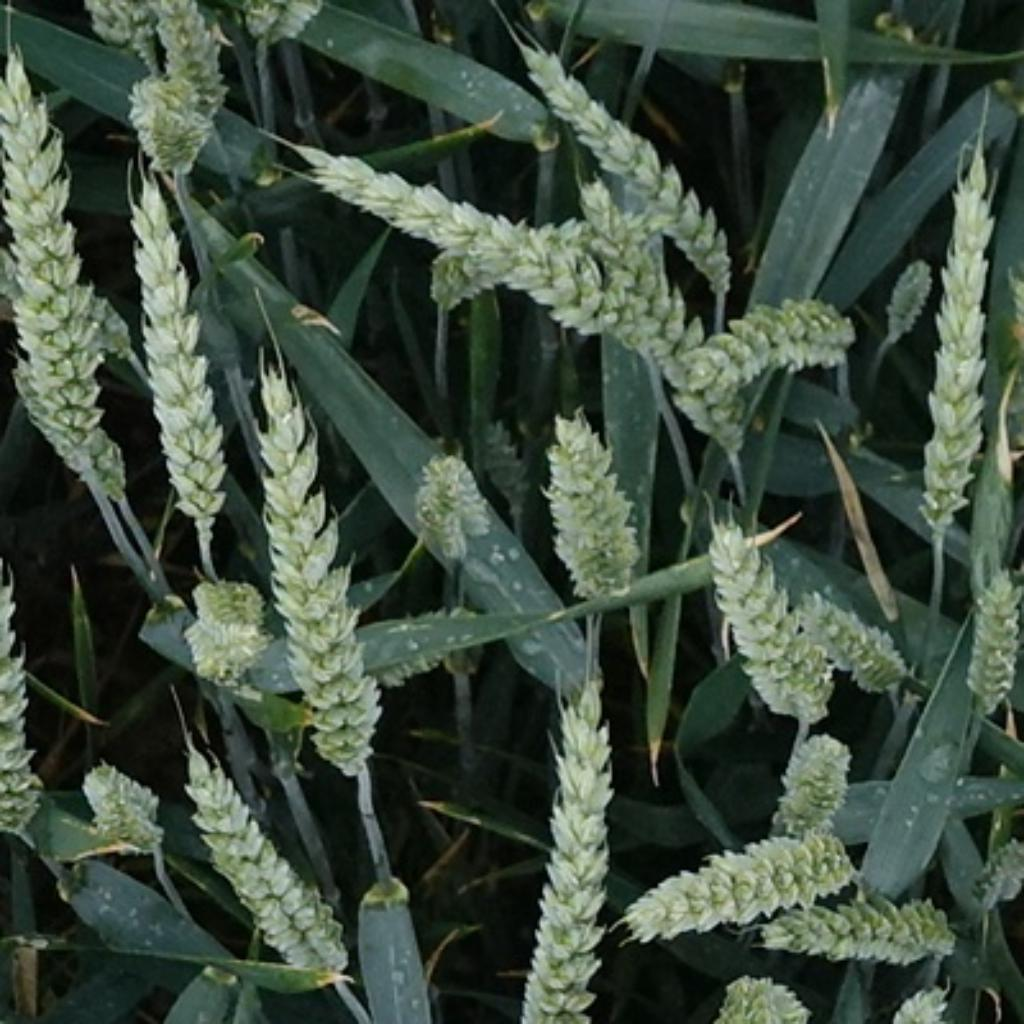0-0: (288, 122, 607, 337), (516, 32, 760, 287), (254, 366, 395, 737), (168, 755, 355, 991), (120, 156, 235, 529), (910, 129, 1012, 544), (406, 183, 688, 321), (522, 655, 619, 1024), (587, 259, 762, 458), (696, 512, 842, 716), (1, 43, 84, 379), (676, 273, 862, 415), (627, 814, 849, 931), (535, 407, 655, 604), (0, 232, 137, 366), (12, 332, 114, 509), (765, 883, 967, 962), (790, 583, 910, 701), (114, 63, 224, 186), (403, 449, 493, 561), (960, 555, 1024, 709), (74, 753, 168, 856), (774, 722, 864, 825), (138, 2, 235, 94), (706, 957, 832, 1024), (468, 407, 535, 524), (187, 565, 276, 650), (175, 623, 254, 698), (73, 2, 169, 63), (233, 0, 337, 50), (968, 832, 1024, 914), (884, 252, 936, 339), (865, 977, 957, 1024)
